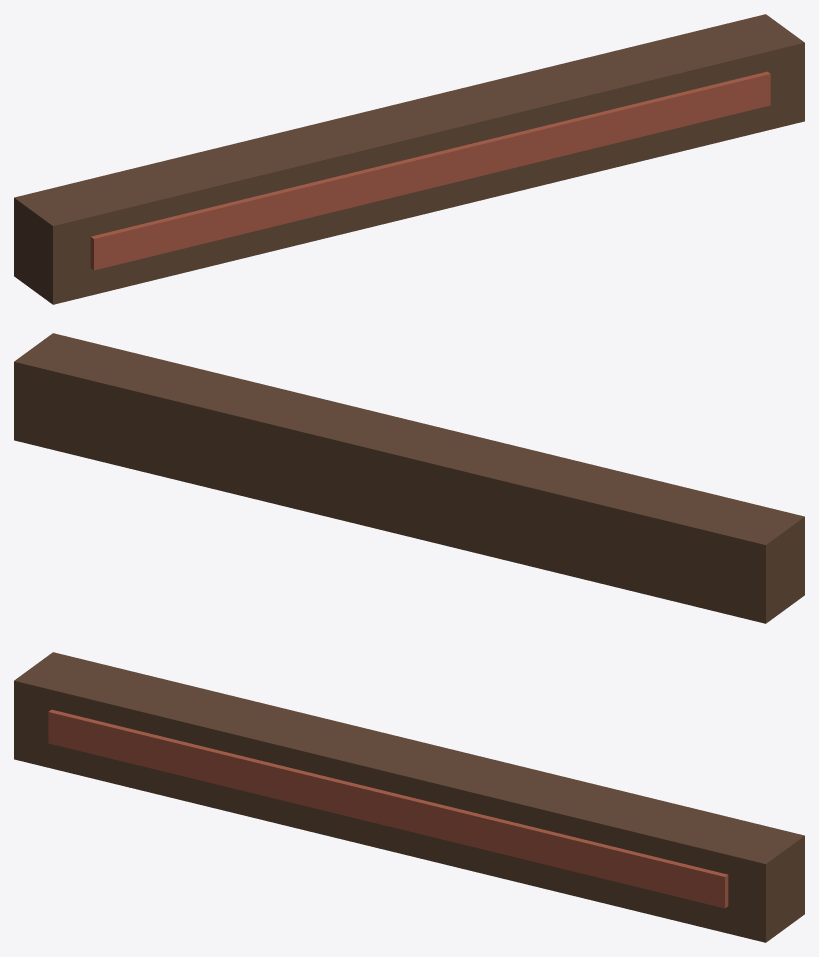
File: beam.glb
3 views of the same model, one above another, from view 1: azimuth 30°, elevation 25°; view 2: azimuth 150°, elevation 25°; view 3: azimuth 330°, elevation 25° (orthographic).
Visible parts, largest first — view 1: beam; view 2: beam; view 3: beam.
Part boxes in pixels (box(x1,y1,x2,y2)): beam: box(14, 14, 804, 304); beam: box(14, 333, 804, 623); beam: box(14, 652, 804, 942).
Size of the model in its own units: 2 by 0.2 by 0.195.
